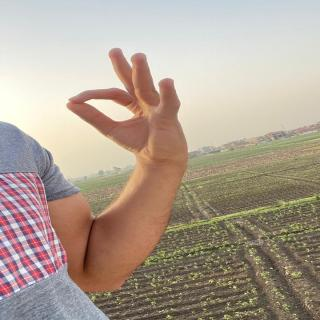Space: (56, 39, 191, 160)
